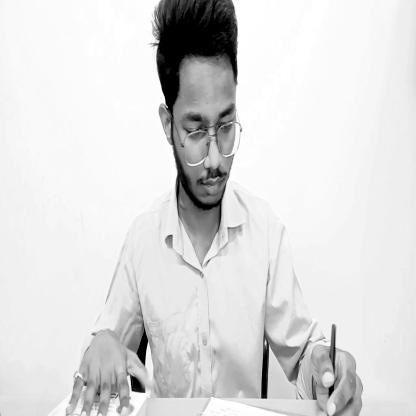Distracted: (153, 0, 245, 217)
